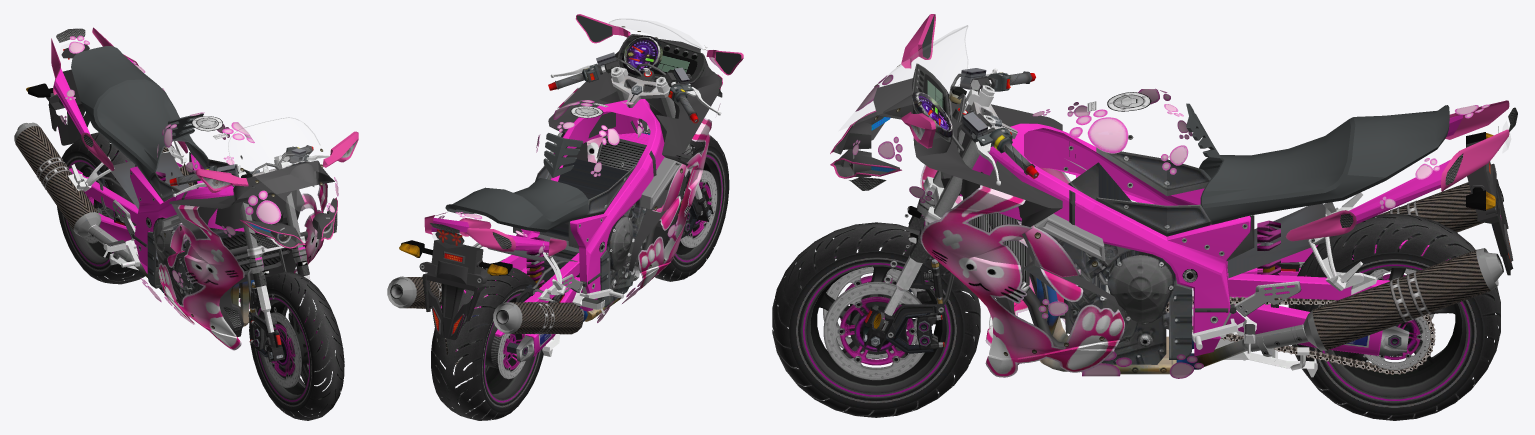
Rendered from Test_bike.obj.
The picture shows the model from 3 angles, left to right: view 1: azimuth 30°, elevation 25°; view 2: azimuth 150°, elevation 25°; view 3: azimuth 270°, elevation 25°; orthographic projection. The views are drawn at different scales.
Visible parts, largest first — view 1: Firehawk_V4; view 2: Firehawk_V4; view 3: Firehawk_V4.
Boxes of the visible parts, x1,y1,x2,y2 form: Firehawk_V4: (14, 27, 358, 420); Firehawk_V4: (387, 14, 743, 420); Firehawk_V4: (772, 14, 1517, 420).
Size of the model in its own units: 0.7765 by 1.22 by 2.2.
